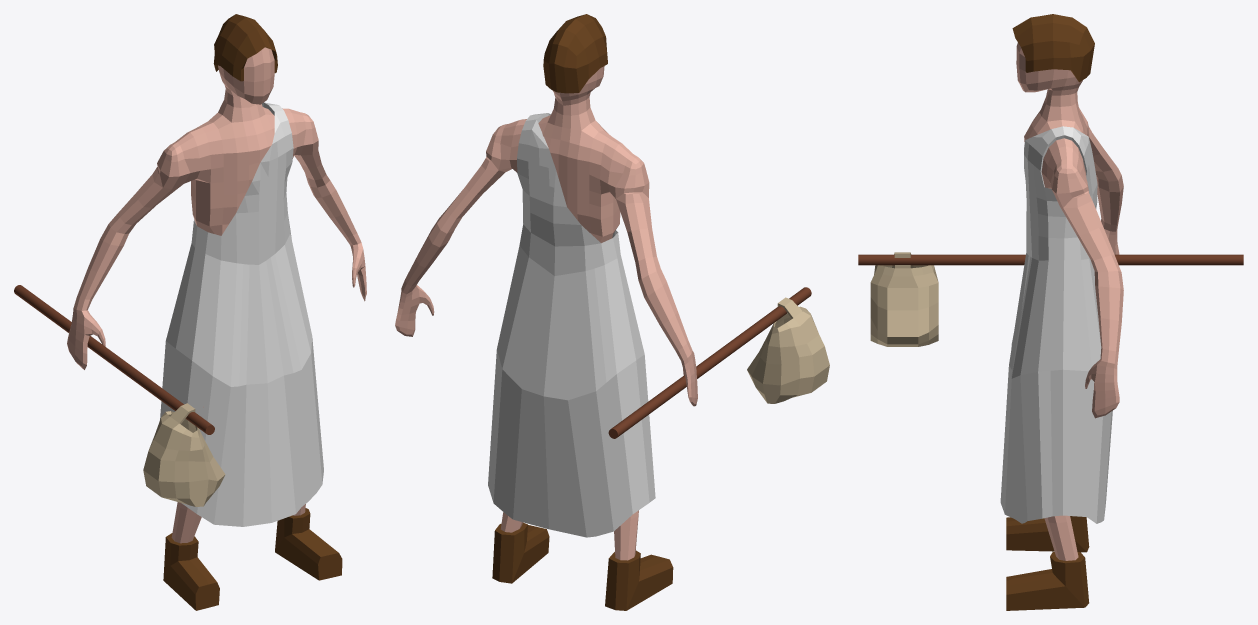
File: Settler.fbx
3 renders of one model, left to right at view 1: azimuth 30°, elevation 25°; view 2: azimuth 150°, elevation 25°; view 3: azimuth 270°, elevation 25°, orthographic.
Parts seen in each view (by area): view 1: Toge, Cube.003, Chaussures, Plane, Cheveux, Cylinder; view 2: Toge, Cube.003, Plane, Chaussures, Cheveux, Cylinder; view 3: Toge, Cube.003, Plane, Chaussures, Cheveux, Cylinder.
Part boxes in pixels (box(x1,y1,x2,y2)): Toge: box(160, 102, 323, 526); Cube.003: box(67, 47, 366, 543); Chaussures: box(163, 508, 342, 610); Plane: box(143, 403, 225, 506); Cheveux: box(213, 14, 277, 81); Cylinder: box(14, 285, 214, 434); Toge: box(488, 113, 655, 537); Cube.003: box(395, 66, 697, 560); Plane: box(747, 297, 829, 403); Chaussures: box(492, 522, 673, 610); Cheveux: box(543, 14, 607, 93); Cylinder: box(608, 287, 811, 438); Toge: box(1000, 126, 1112, 523); Cube.003: box(1016, 43, 1123, 560); Plane: box(870, 252, 938, 346); Chaussures: box(1006, 516, 1089, 610); Cheveux: box(1012, 14, 1094, 82); Cylinder: box(858, 254, 1243, 265).
Bounding box in the file's own units: 381 × 644 × 401.
